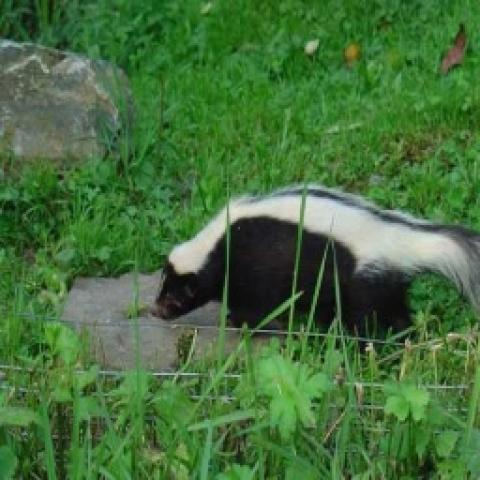small_animal: (148, 180, 478, 356)
